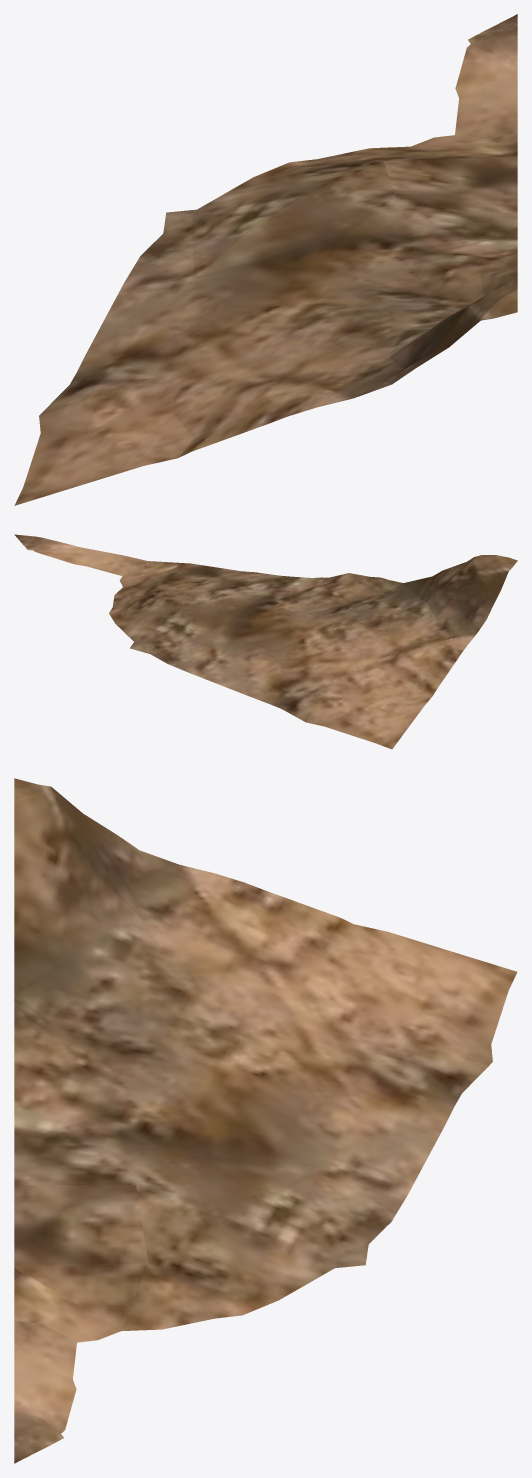
The picture shows the model from 3 angles, top to bottom: view 1: azimuth 90°, elevation 25°; view 2: azimuth 150°, elevation 25°; view 3: azimuth 270°, elevation 25°; orthographic projection. The views are drawn at different scales.
Size of the model in its own units: 0.3533 by 0.0654 by 0.1528.
Materials: 1 (1 with a texture image).
